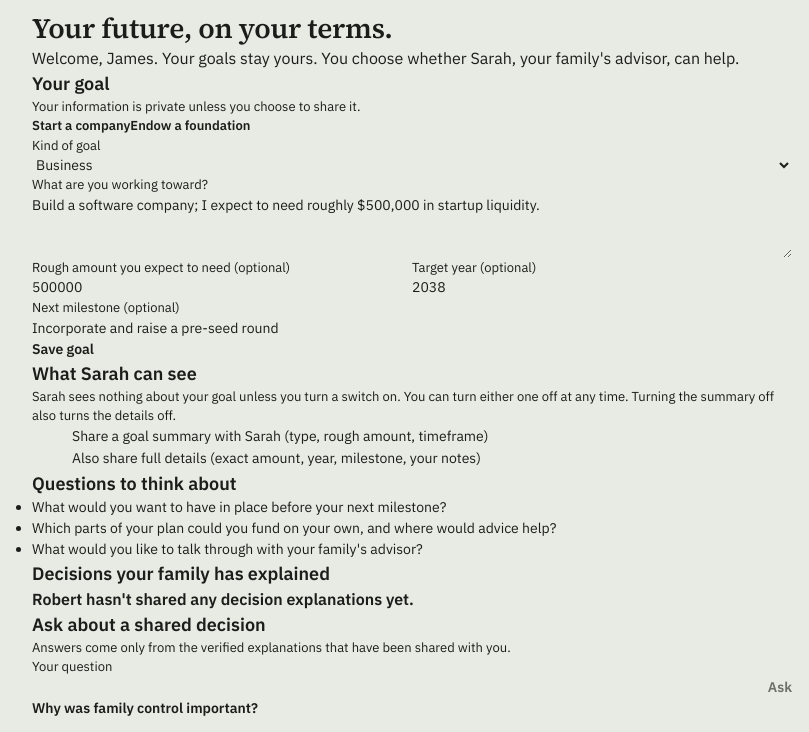
Test: GoalCheckIn › takes in a change from another window when the form has no unsaved edits
The width and height of the screenshot is (809, 732).
Click the switch labelled "Share a goal summary with Sarah" at (52, 437), box [32,426,72,448]
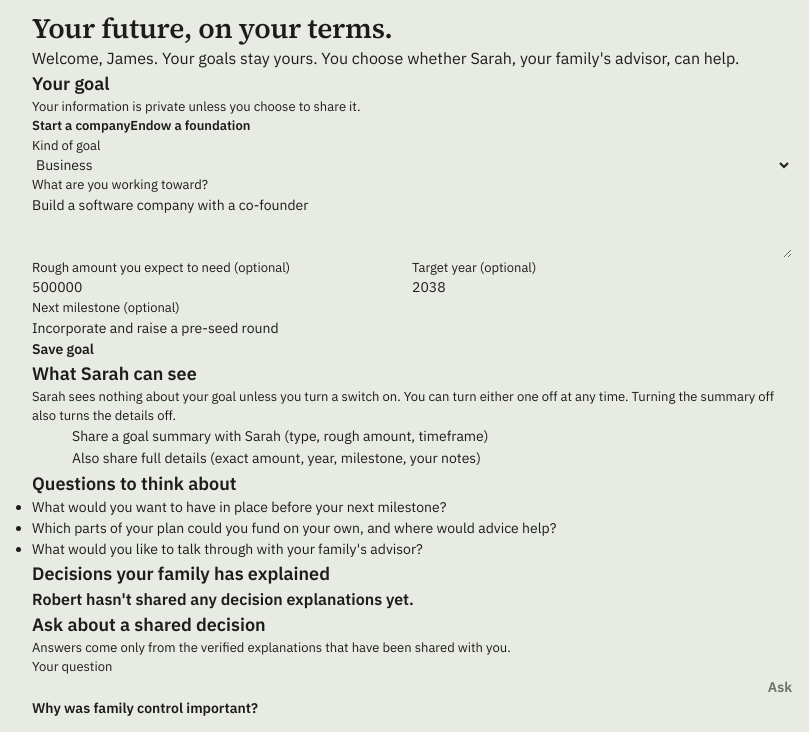
Result: the text box labelled "What are you working toward?" holds "Build a software company with a co-founder" at [32,195,792,258]
